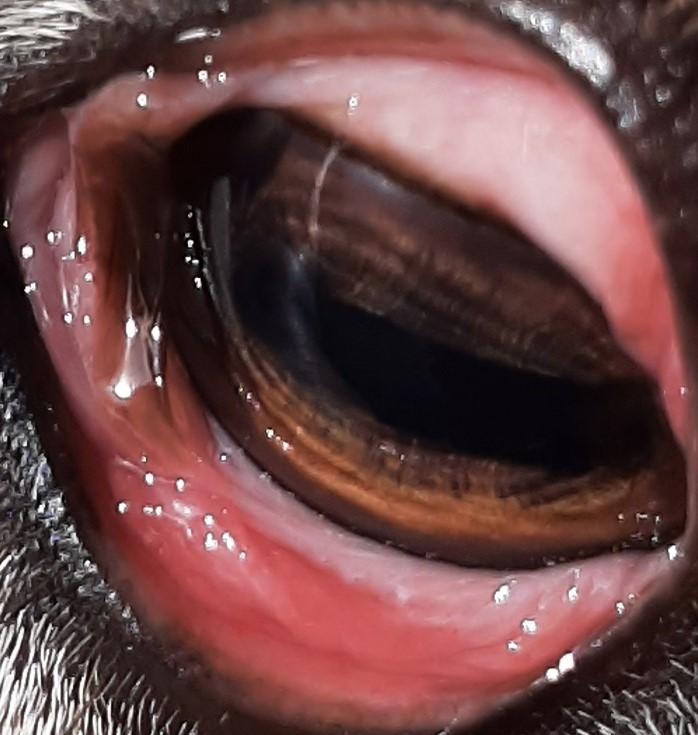eye_membrane: (86, 428, 664, 706)
